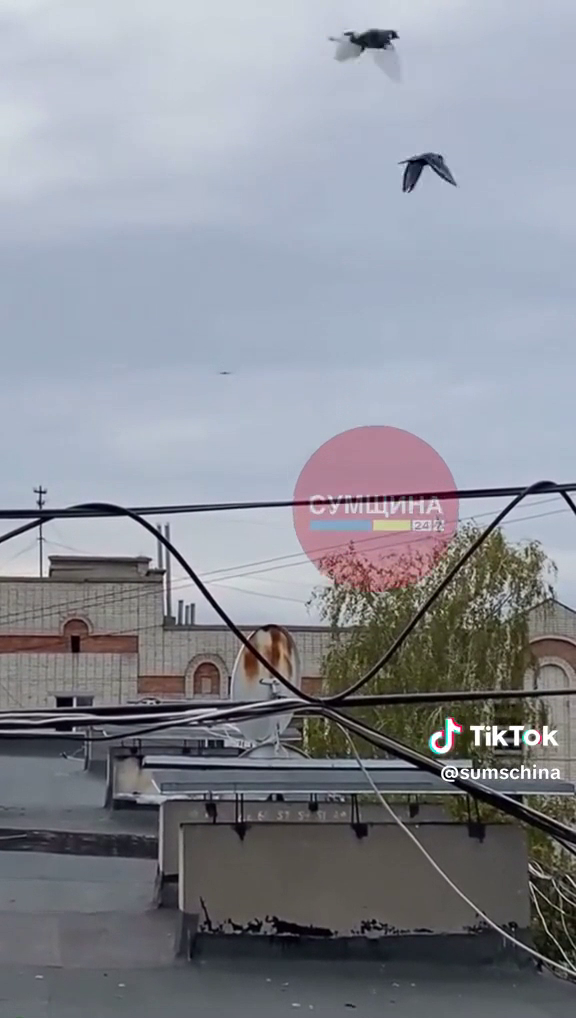not_drone: (308, 10, 434, 100), (378, 136, 474, 210)
